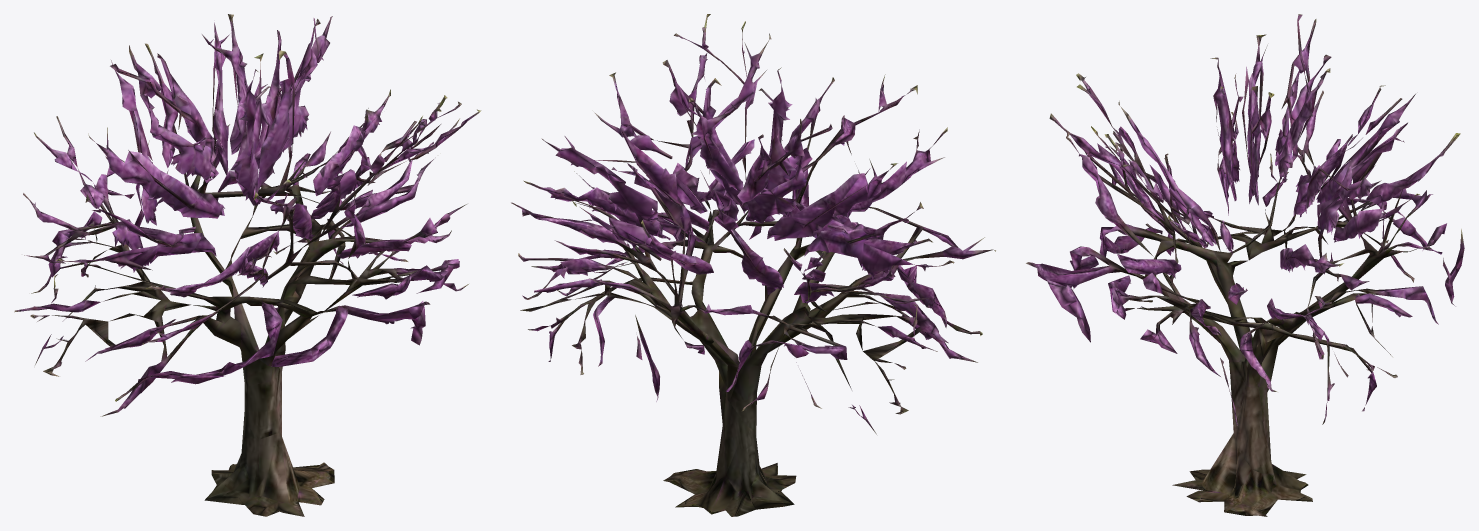
File: purple.glb
3 renders of one model, left to right at view 1: azimuth 30°, elevation 25°; view 2: azimuth 150°, elevation 25°; view 3: azimuth 270°, elevation 25°, orthographic. The views are drawn at different scales.
Parts seen in each view (by area): view 1: tripo_node_58ec9fb6-552b-411e-9a5f-fe7204642d55; view 2: tripo_node_58ec9fb6-552b-411e-9a5f-fe7204642d55; view 3: tripo_node_58ec9fb6-552b-411e-9a5f-fe7204642d55.
Part boxes in pixels (<box>): tripo_node_58ec9fb6-552b-411e-9a5f-fe7204642d55: <box>14,14,481,516</box>; tripo_node_58ec9fb6-552b-411e-9a5f-fe7204642d55: <box>511,14,995,516</box>; tripo_node_58ec9fb6-552b-411e-9a5f-fe7204642d55: <box>1026,14,1464,516</box>.
Bounding box in the file's own units: 1.02 × 1 × 0.9374.
Materials: 1 (1 with a texture image).
